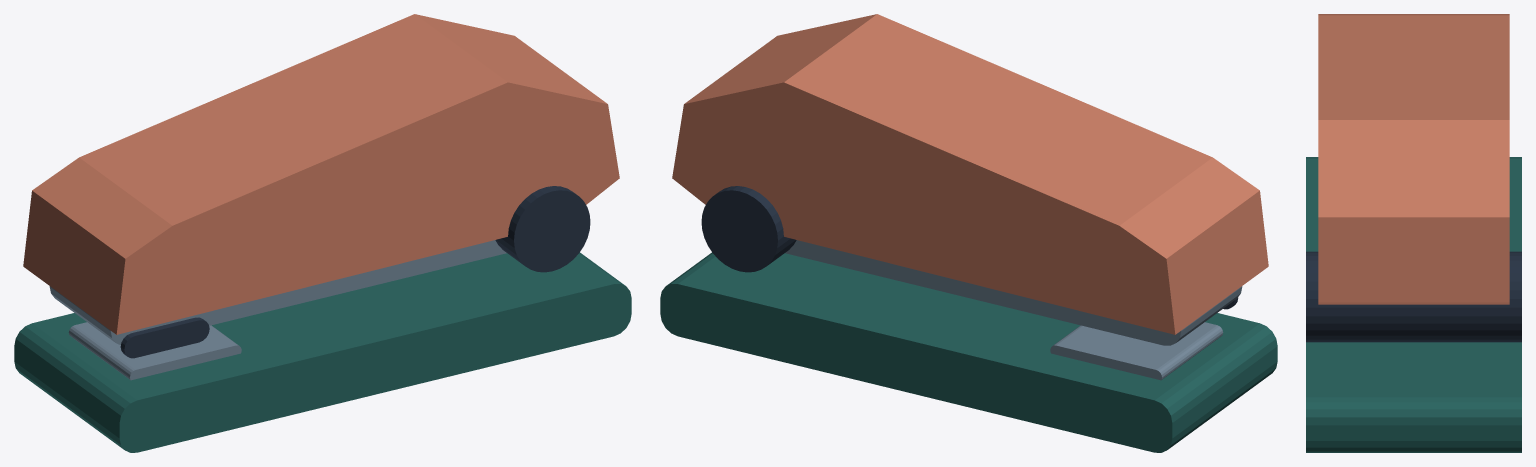
Rendered from nailer.glb.
3 views of the same model, side by side, from view 1: azimuth 30°, elevation 25°; view 2: azimuth 150°, elevation 25°; view 3: azimuth 270°, elevation 25° (orthographic). The views are drawn at different scales.
Visible parts, largest first — view 1: lever, base, hinge, magazine, anvil, paper notch; view 2: lever, base, magazine, hinge, anvil; view 3: lever, base, hinge.
Boxes of the visible parts, x1=… form: lever: x1=23, y1=14, x2=619, y2=334; base: x1=14, y1=252, x2=631, y2=452; hinge: x1=495, y1=186, x2=590, y2=272; magazine: x1=49, y1=240, x2=506, y2=345; anvil: x1=68, y1=322, x2=241, y2=380; paper notch: x1=120, y1=317, x2=209, y2=358; lever: x1=672, y1=14, x2=1268, y2=334; base: x1=660, y1=252, x2=1277, y2=452; magazine: x1=785, y1=240, x2=1242, y2=345; hinge: x1=701, y1=186, x2=796, y2=272; anvil: x1=1050, y1=322, x2=1223, y2=380; lever: x1=1318, y1=14, x2=1509, y2=304; base: x1=1306, y1=157, x2=1521, y2=452; hinge: x1=1306, y1=251, x2=1521, y2=342.
Size of the model in its own units: 1.74 by 0.89 by 0.62.
